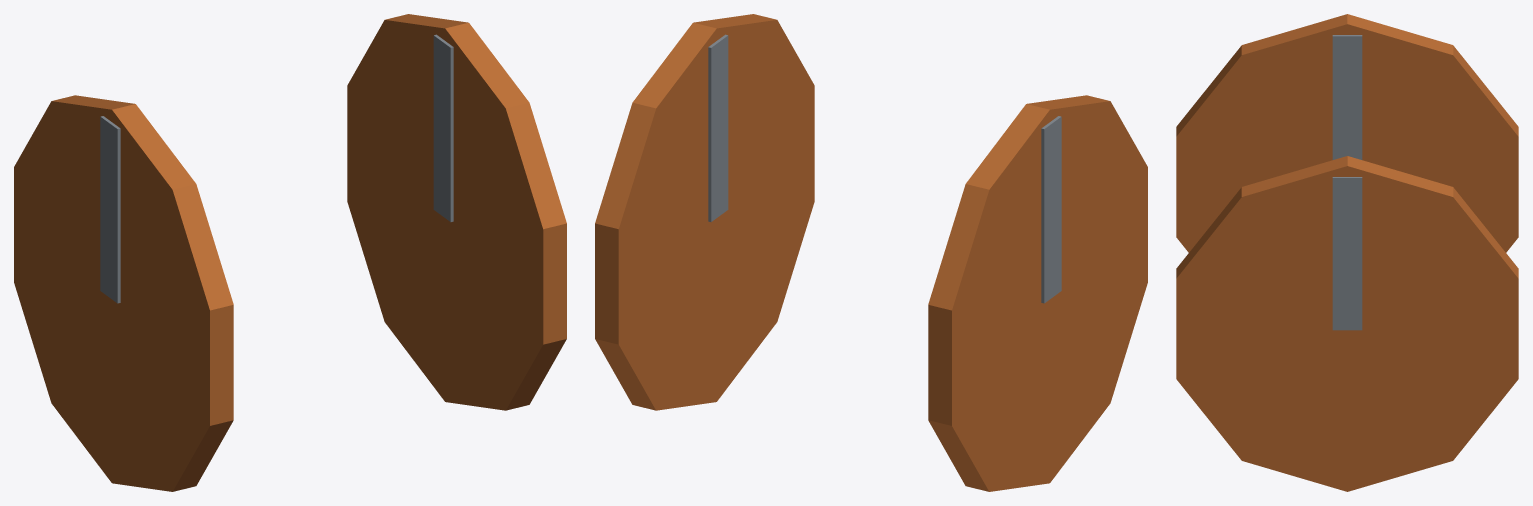
File: oil_extractor_crank.obj
3 renders of one model, left to right at view 1: azimuth 30°, elevation 25°; view 2: azimuth 150°, elevation 25°; view 3: azimuth 270°, elevation 25°, orthographic. The views are drawn at different scales.
Parts seen in each view (by area): view 1: Body; view 2: Body; view 3: Body.
Boxes of the visible parts, <box> form: Body: <box>14,14,566,491</box>; Body: <box>595,14,1147,491</box>; Body: <box>1176,14,1518,491</box>.
Size of the model in its own units: 0.61 by 0.6 by 0.5706.
